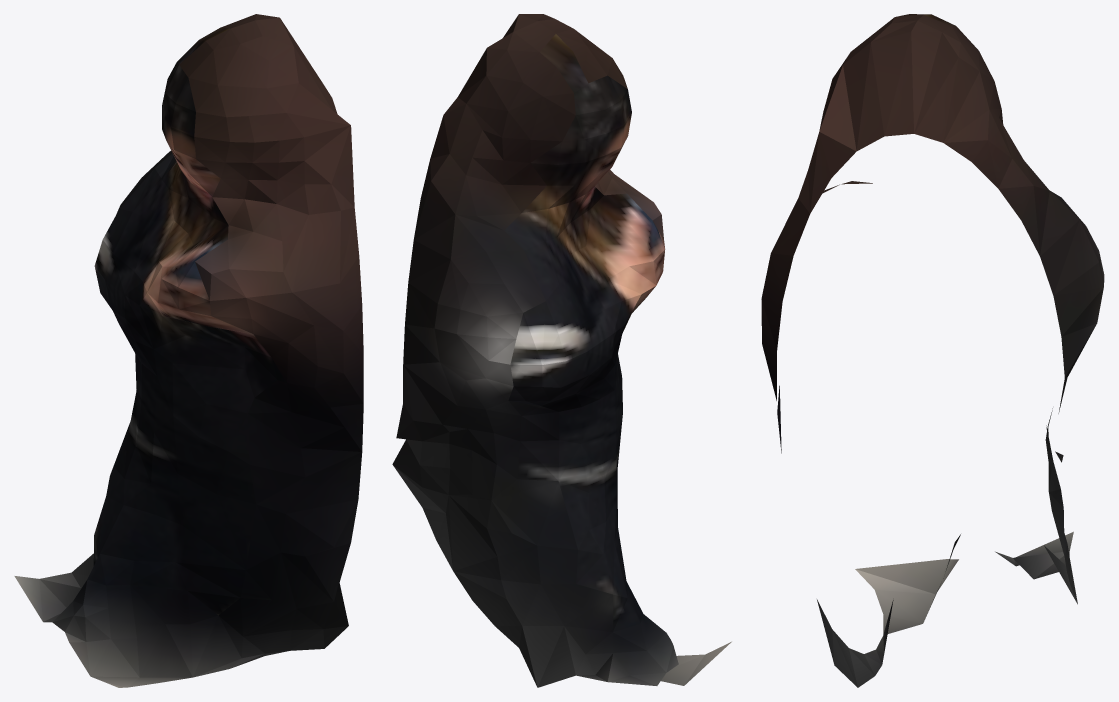
3 renders of one model, left to right at view 1: azimuth 30°, elevation 25°; view 2: azimuth 150°, elevation 25°; view 3: azimuth 270°, elevation 25°, orthographic. The views are drawn at different scales.
Size of the model in its own units: 0.453 by 1.12 by 0.5256.
Materials: 1 (1 with a texture image).
